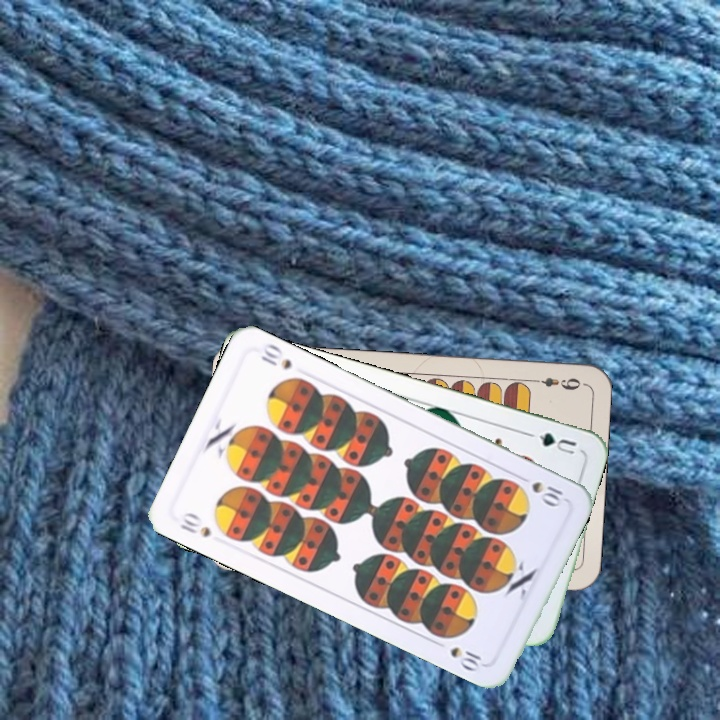E9: (527, 373, 583, 393)
GU: (525, 428, 579, 457)
S10: (513, 471, 568, 509), (175, 508, 213, 540)
